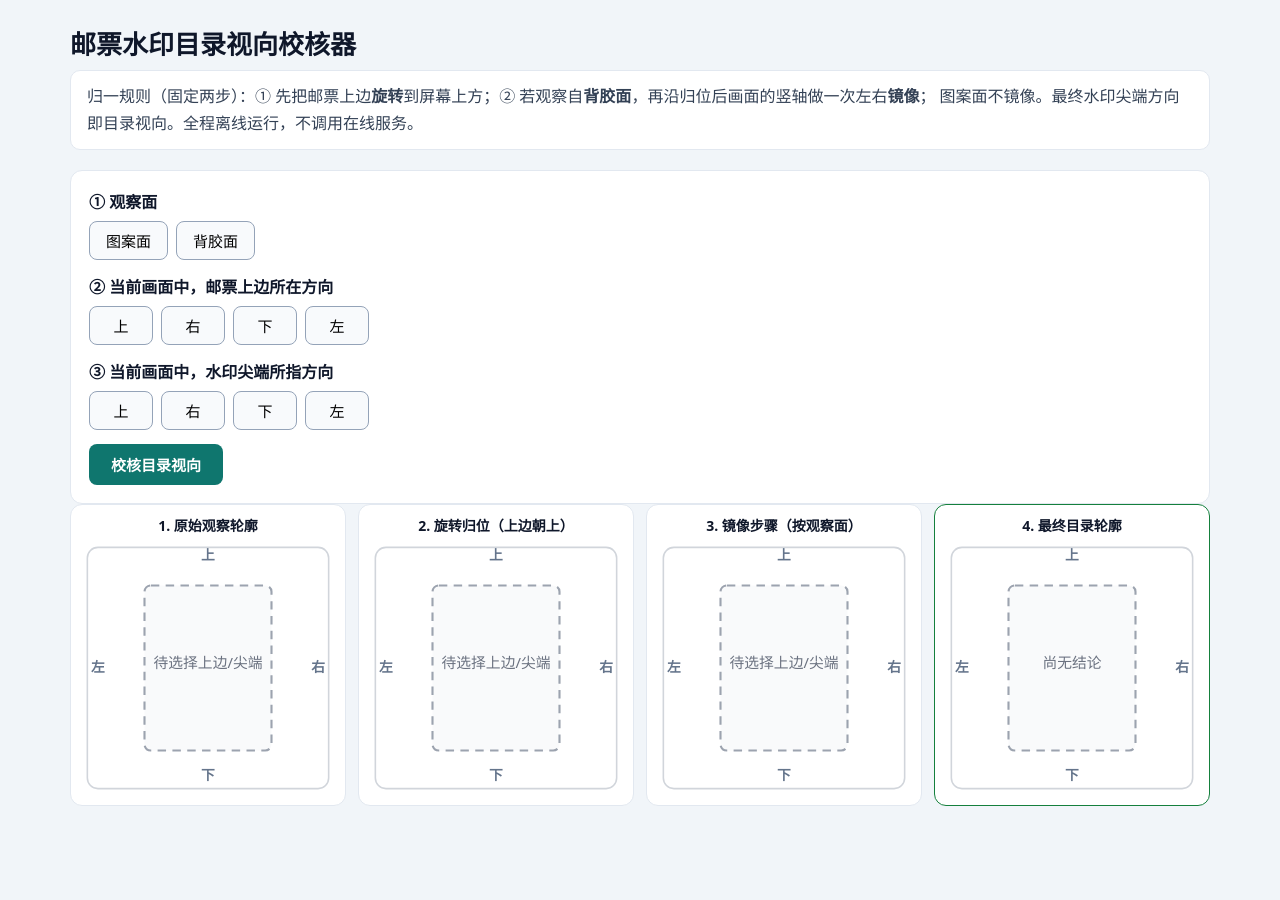
Test: 校核器交互 › 非归位姿态也正确：背胶面、上边在右、尖端朝上 → 目录视向右
The width and height of the screenshot is (1280, 900).
Click the button with test id "face-control-gum".
click(216, 241)  # box [176,221,255,260]
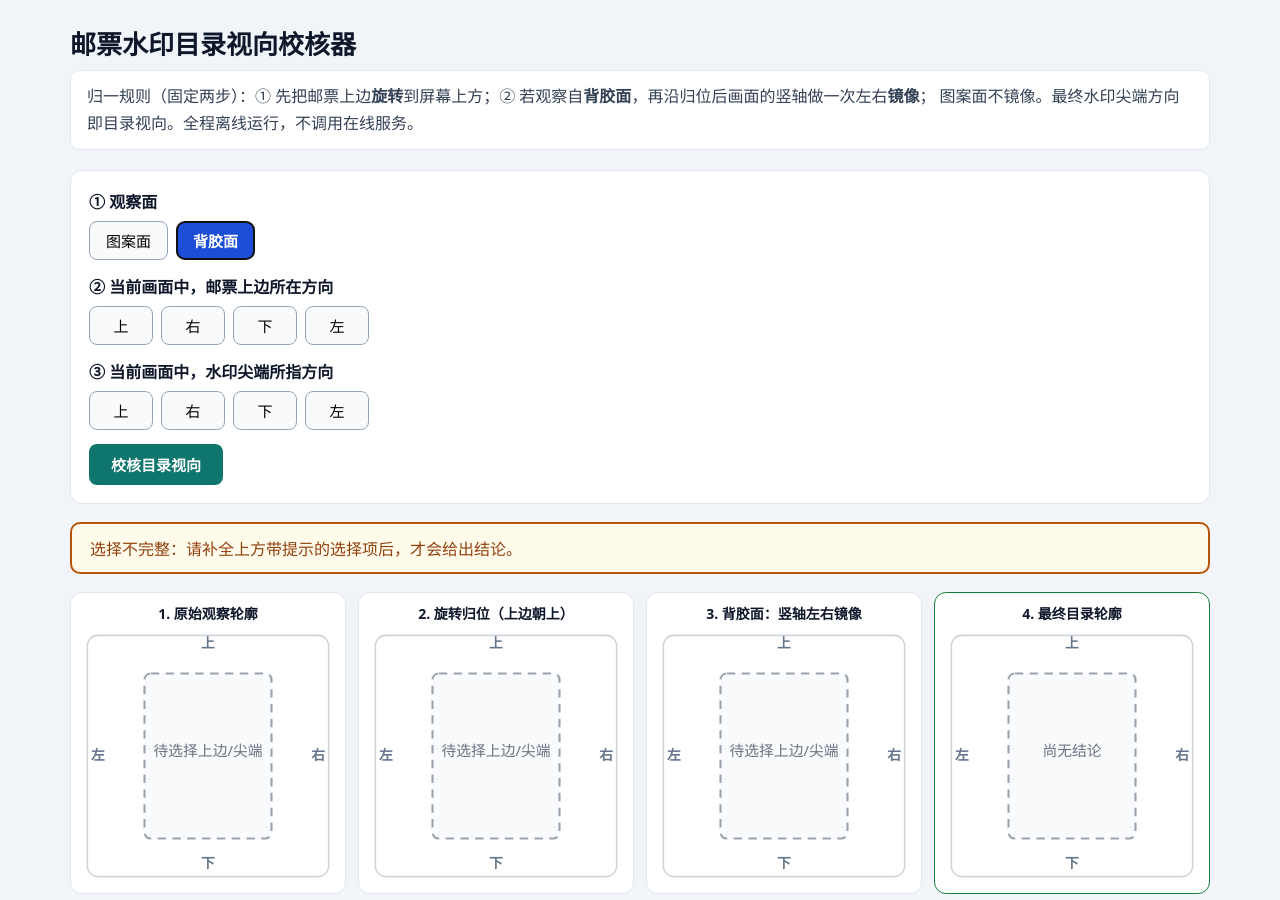
Click the button with test id "top-control-R".
click(193, 326)  # box [161,306,225,345]
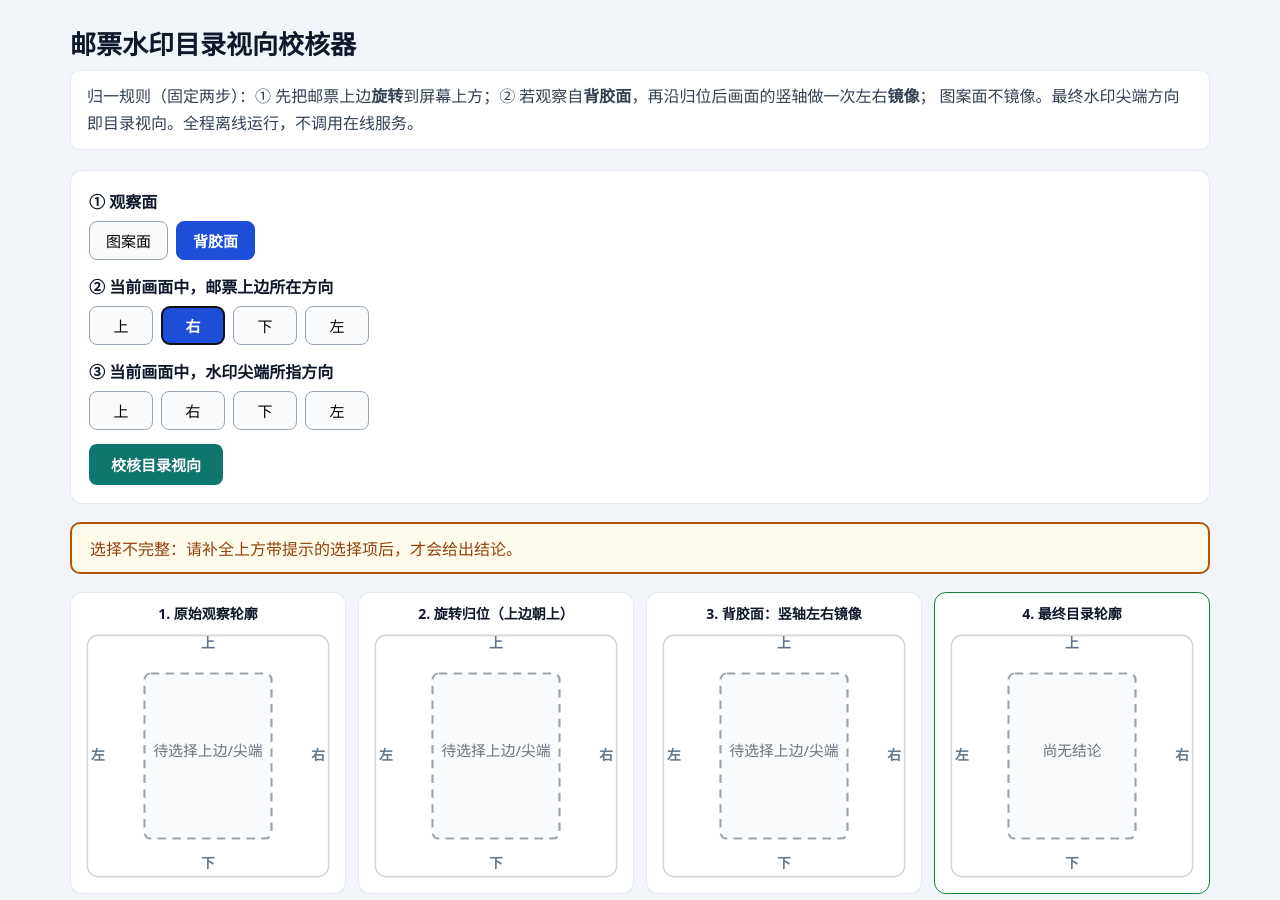
Click the button with test id "tip-control-U".
click(121, 411)  # box [89,391,153,430]
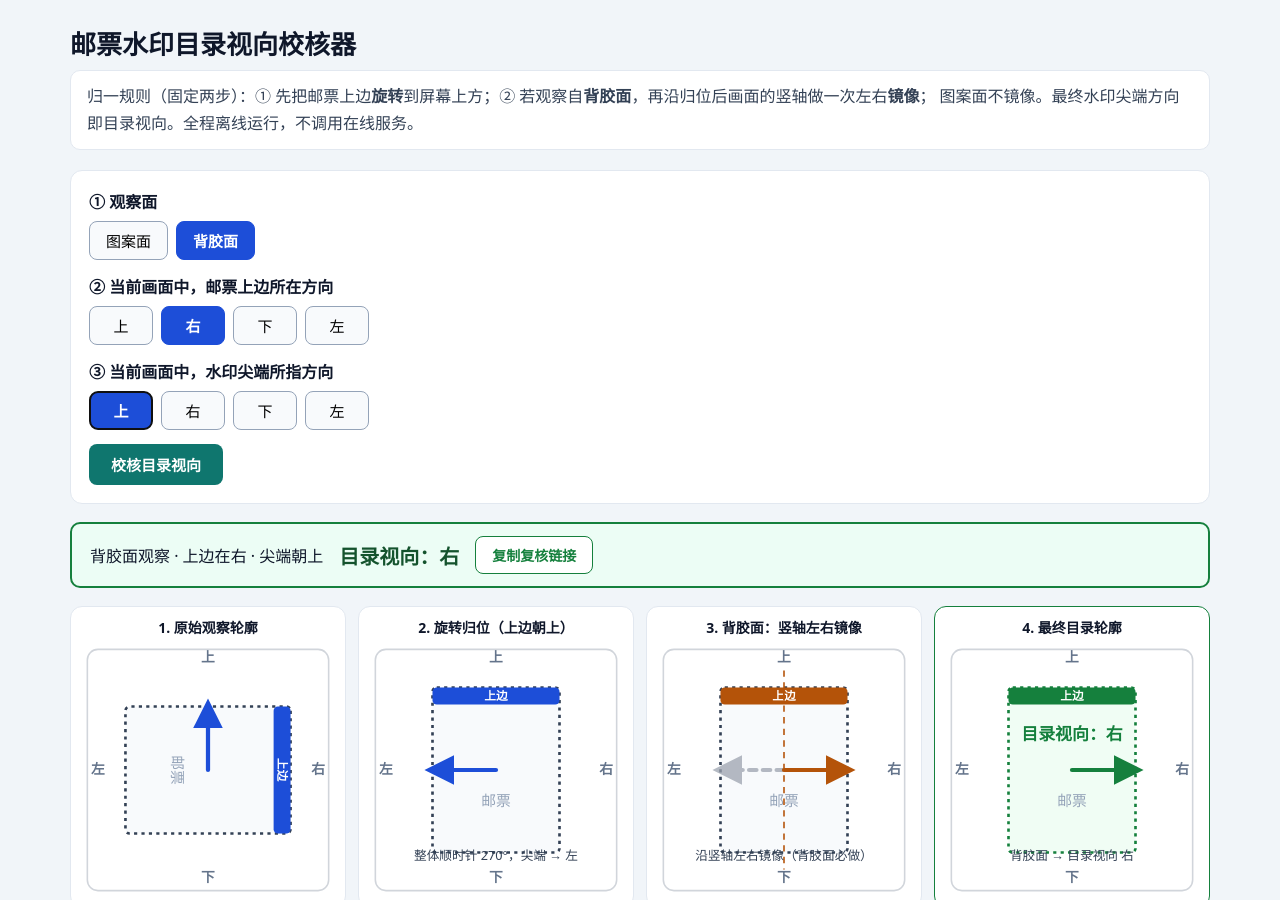
Result: the element with test id "result-banner" shows "目录视向：右" at [70,522,1210,588]
